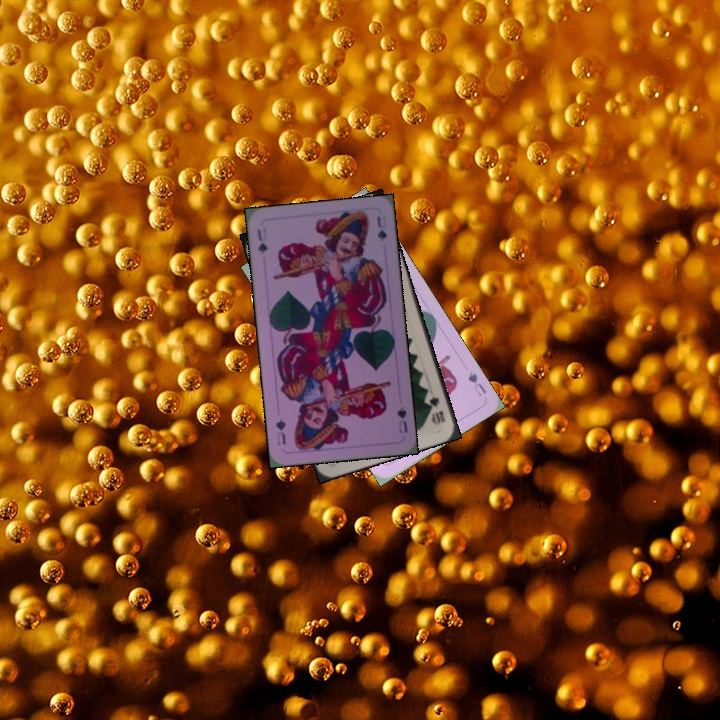G10: (425, 392, 448, 428)
GU: (464, 368, 489, 399), (253, 224, 270, 257), (393, 403, 410, 435)
